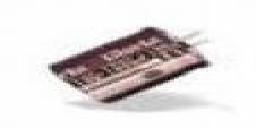Electrolytic-capacitor: (48, 23, 214, 107)
